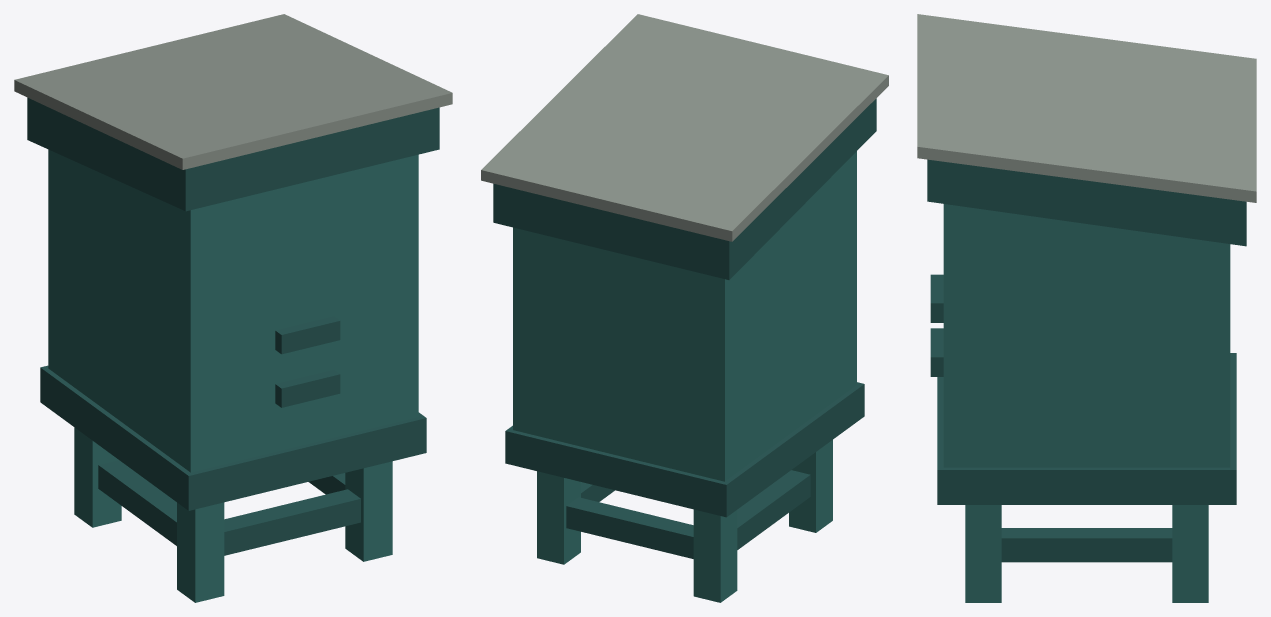
The model's file is Beehive_3.fbx.
3 views of the same model, side by side, from view 1: azimuth 30°, elevation 25°; view 2: azimuth 150°, elevation 25°; view 3: azimuth 270°, elevation 25° (orthographic). The views are drawn at different scales.
Parts seen in each view (by area): view 1: Beehive_3; view 2: Beehive_3; view 3: Beehive_3.
Part boxes in pixels (box(x1,y1,x2,y2)): Beehive_3: box(14, 14, 452, 602); Beehive_3: box(481, 14, 888, 602); Beehive_3: box(917, 14, 1256, 602).
Size of the model in its own units: 72.58 by 121 by 78.45.
